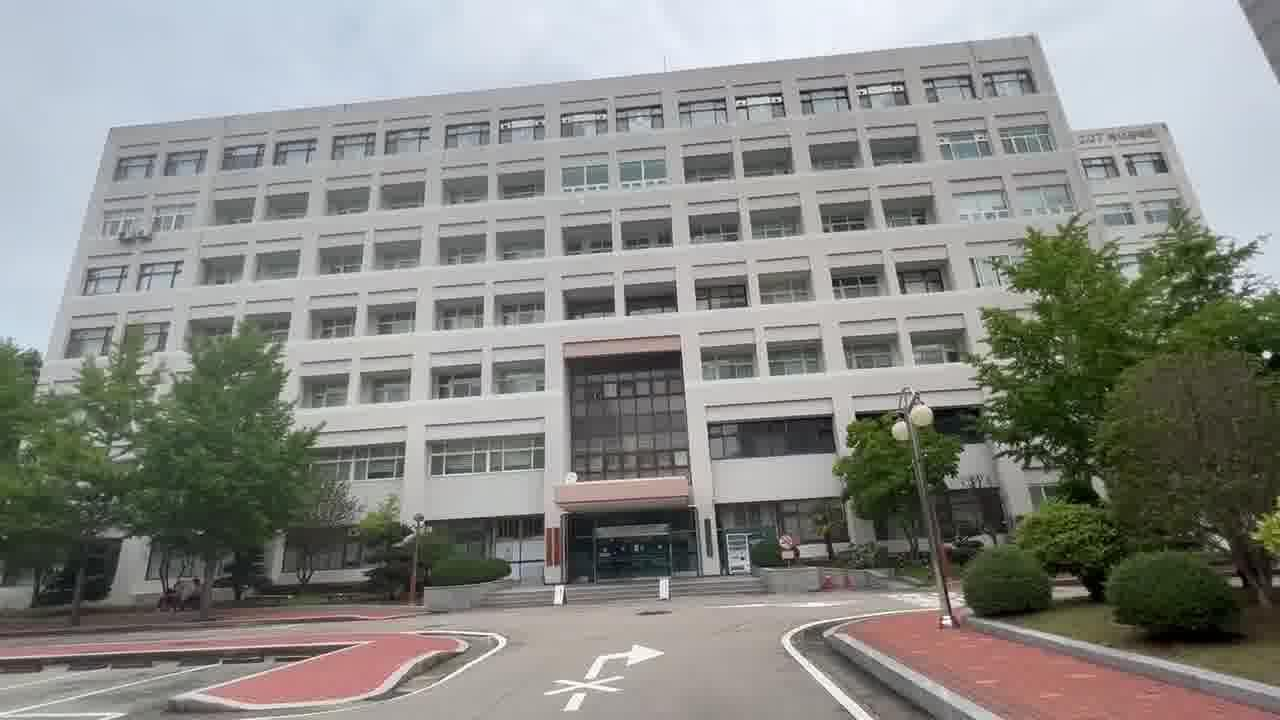building: (451, 77, 838, 589)
